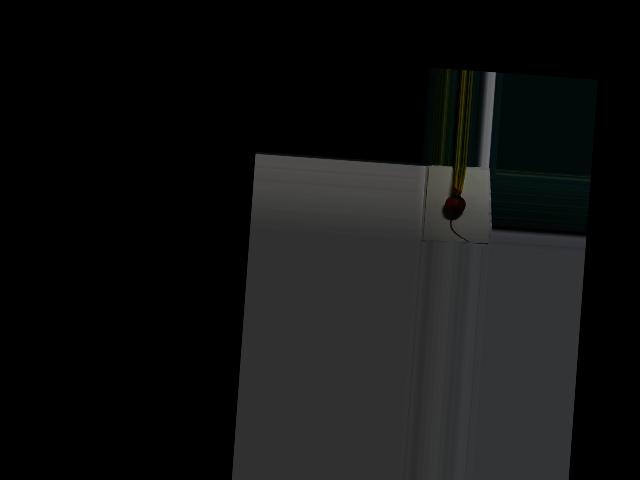beet: (442, 165, 473, 241)
